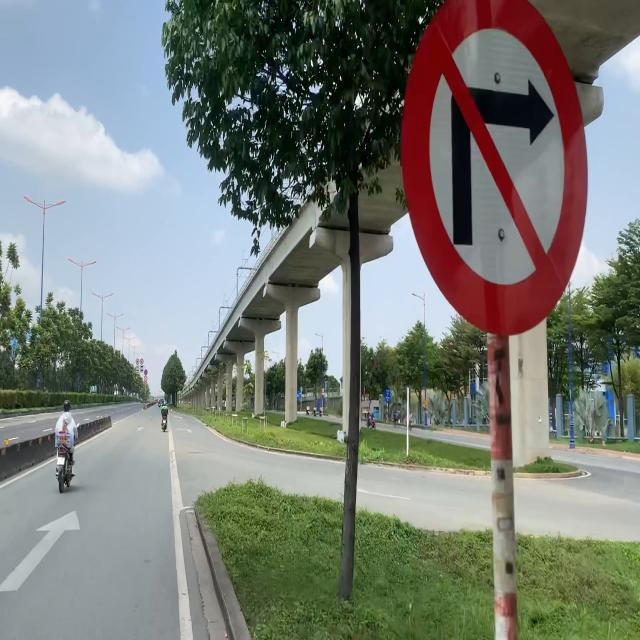Cam con lai: (144, 375, 148, 382)
Cam dung va do: (144, 369, 148, 375)
Cam re phai: (399, 0, 591, 343)
Toc do toi da: (140, 358, 144, 366), (136, 359, 139, 365)
